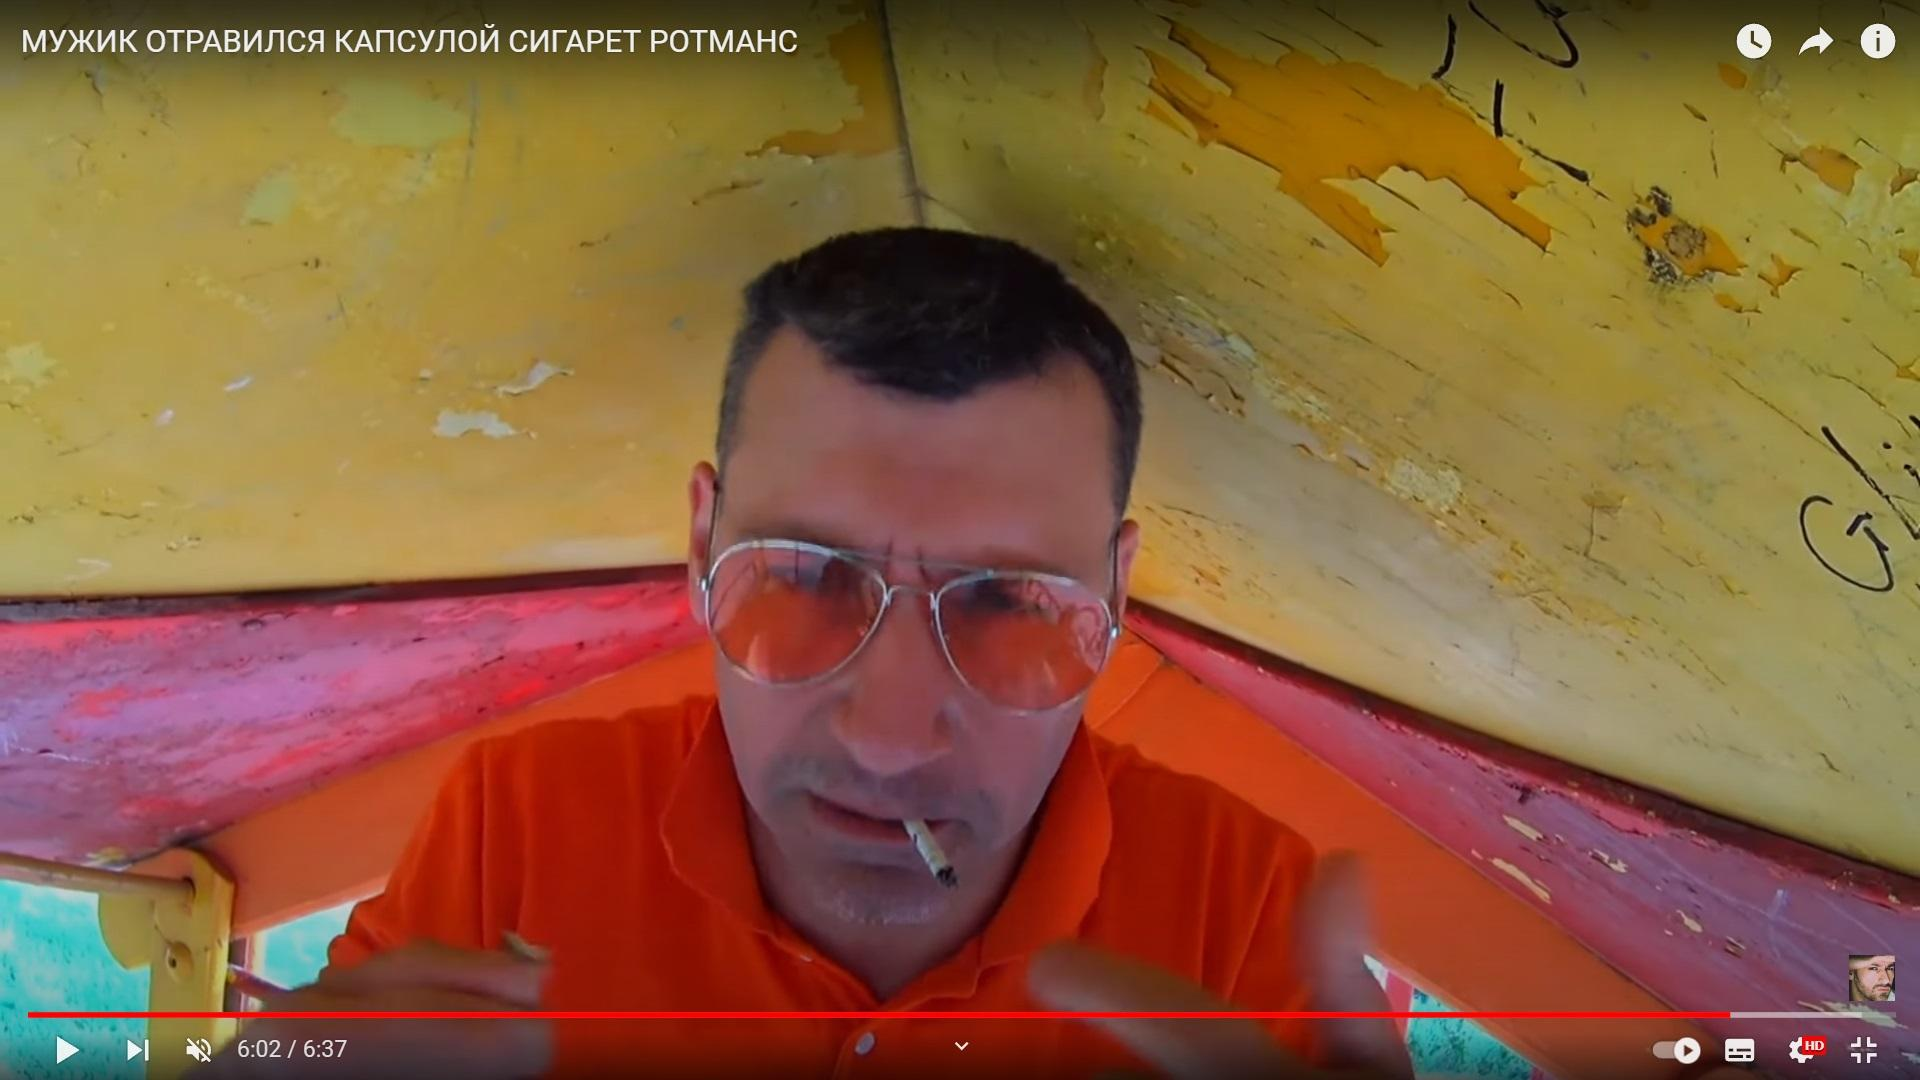cigarette: (901, 819, 960, 890)
